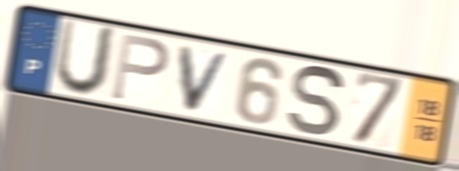6: (233, 56, 284, 126)
7: (350, 70, 407, 149)
P: (109, 30, 172, 104)
S: (286, 63, 348, 140)
U: (51, 16, 121, 100)
V: (177, 44, 236, 115)
